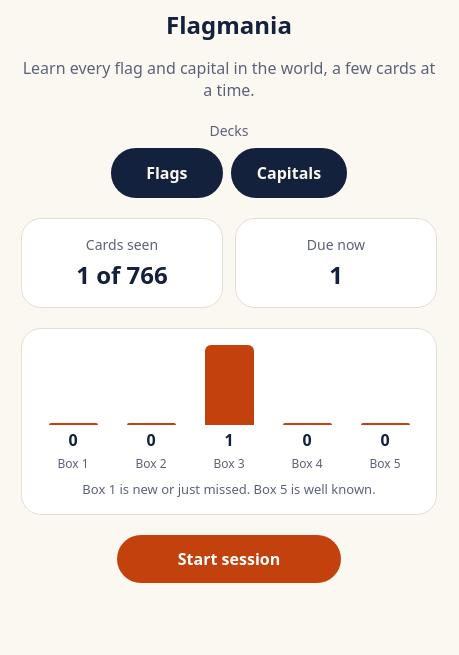
formats › asks a box 3, tier 3 item as a typed answer and forgives a typo
Click the button "Start session" at [229, 559], box [117,535,341,583]
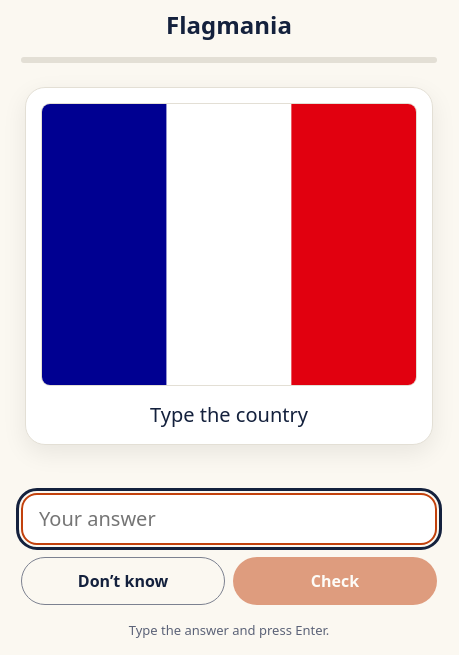
Type "Frnace" into the field named "Country" at [229, 518], box [21,492,437,544]
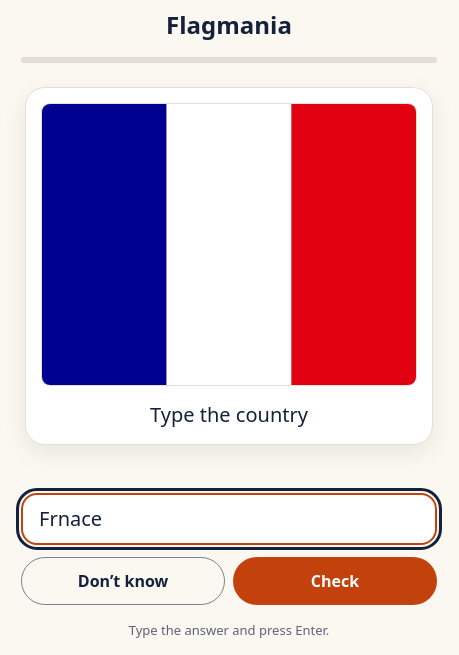
Click the button "Check" at [335, 580], box [233,556,437,604]
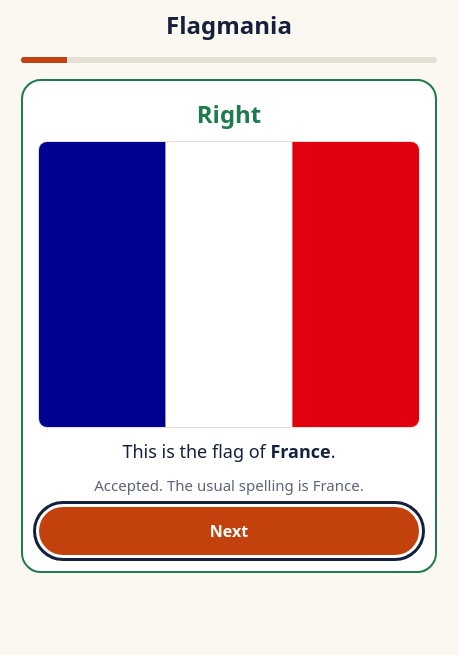
Now the heading "Right" is shown, box [197,97,261,130]
Now the text "Accepted. The usual spelling is France." is shown, box [94,475,364,495]
